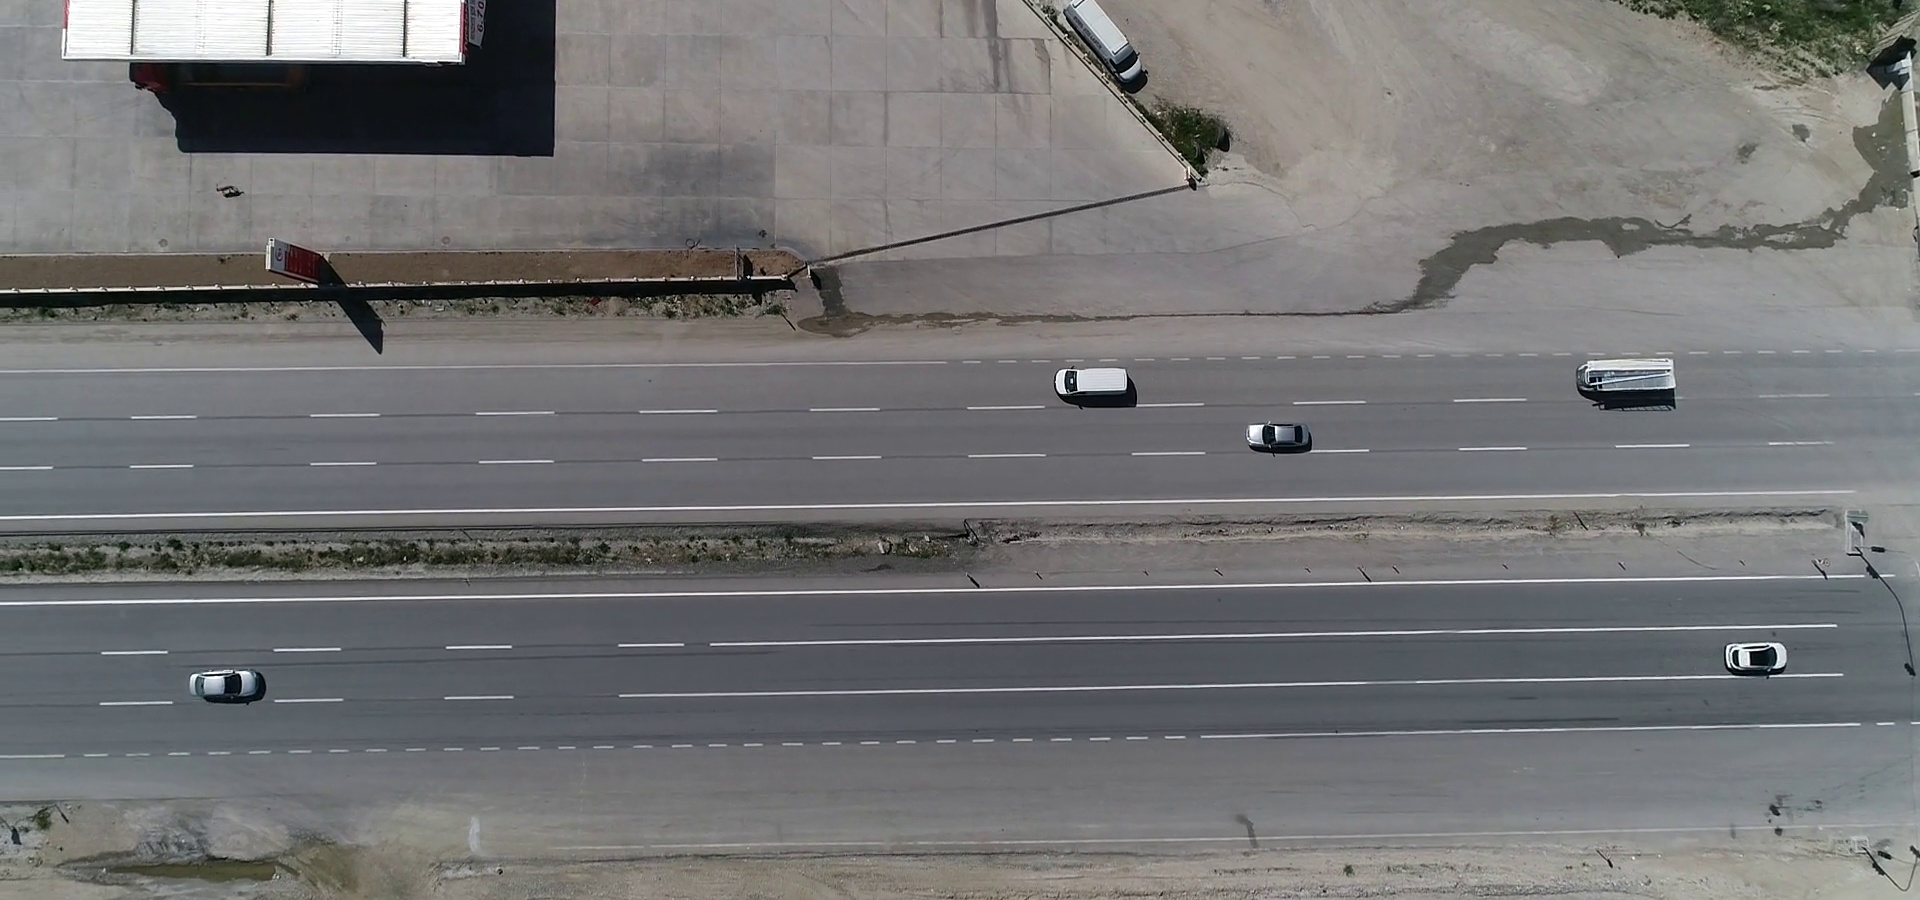araba: (1060, 1, 1149, 93), (178, 659, 267, 707), (1052, 364, 1139, 400), (1717, 638, 1796, 672), (1242, 421, 1318, 449)
